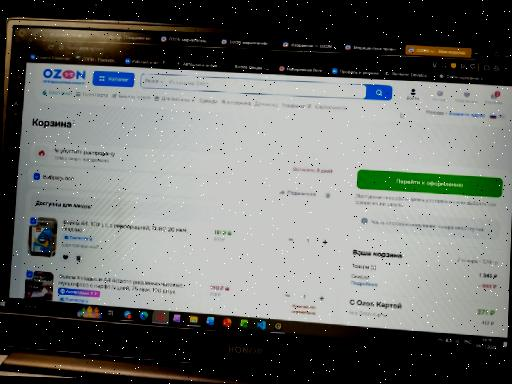ozon: (17, 63, 512, 332)
